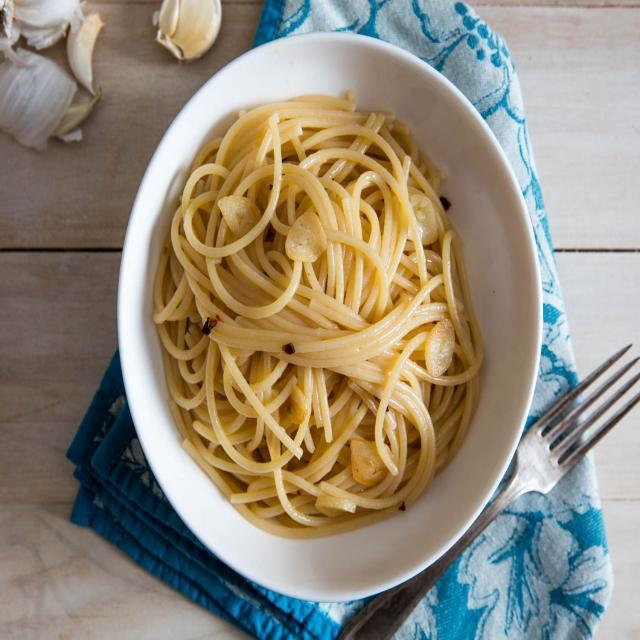Oil pasta: (137, 56, 563, 600)
